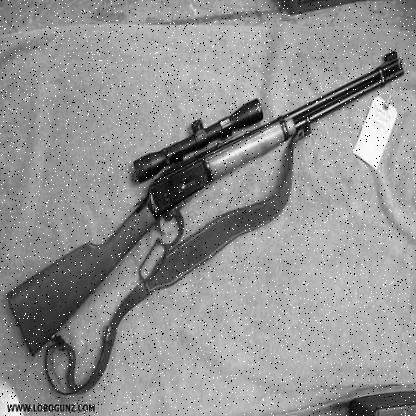rifle: (7, 42, 412, 376)
